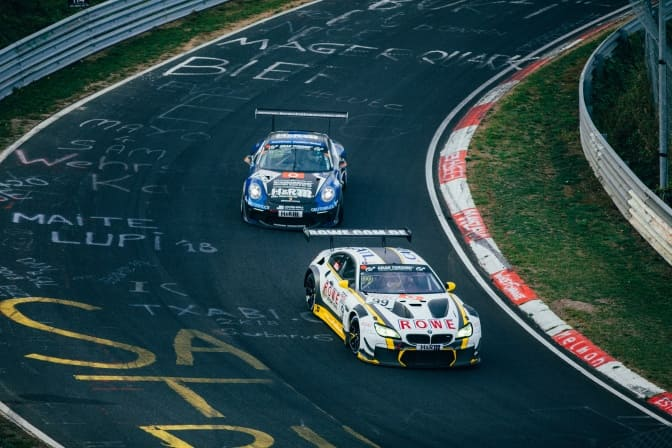car: (302, 226, 484, 371), (240, 109, 348, 231)
